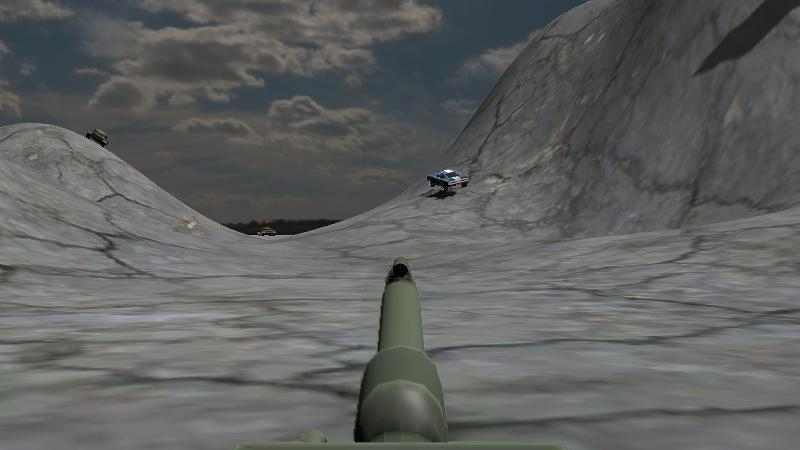Tank: (253, 225, 279, 239)
car: (426, 166, 470, 191)
